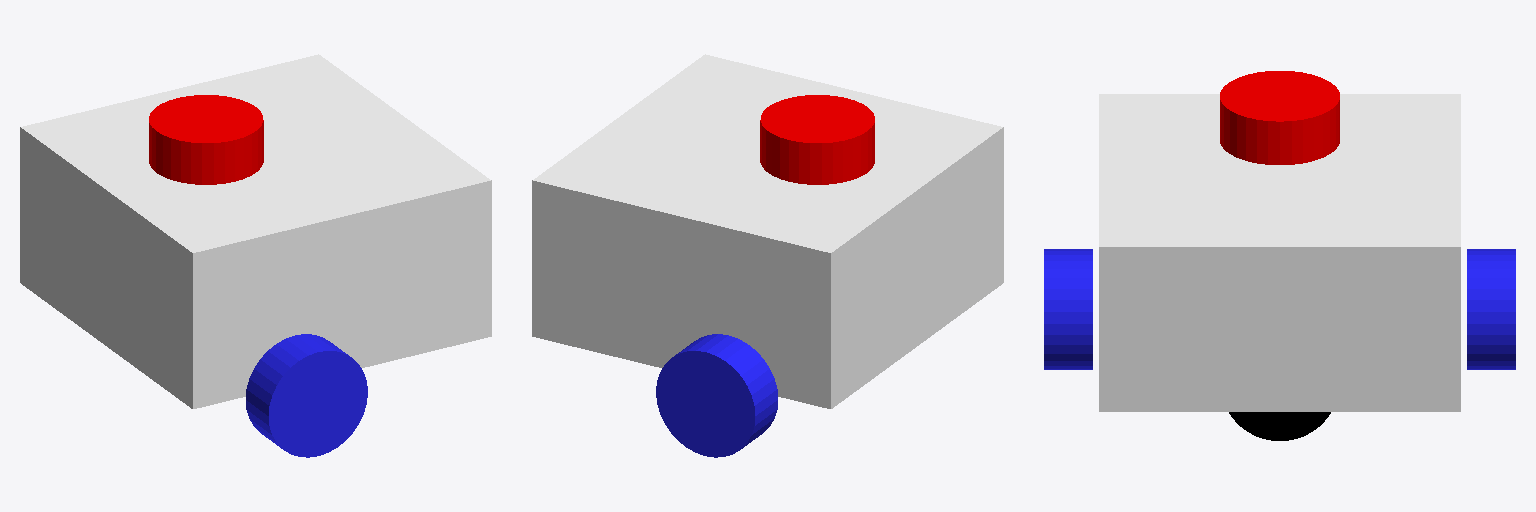
robot.urdf — robot:
<?xml version="1.0" ?>
<!-- =================================================================================== -->
<!-- |    This document was autogenerated by xacro from /home/ros/rmf_ws/src/laris_robot/description/robot.urdf.xacro | -->
<!-- |    EDITING THIS FILE BY HAND IS NOT RECOMMENDED                                 | -->
<!-- =================================================================================== -->
<robot name="robot">
  <!-- Specify some standard inertial calculations https://en.wikipedia.org/wiki/List_of_moments_of_inertia -->
  <!-- These make use of xacro's mathematical functionality -->
  <material name="white">
    <color rgba="1 1 1 1"/>
  </material>
  <material name="orange">
    <color rgba="1 0.3 0.1 1"/>
  </material>
  <material name="blue">
    <color rgba="0.2 0.2 1 1"/>
  </material>
  <material name="black">
    <color rgba="0 0 0 1"/>
  </material>
  <material name="red">
    <color rgba="1 0 0 1"/>
  </material>
  <!-- BASE LINK -->
  <link name="base_link">

    </link>
  <!-- CHASSIS LINK -->
  <joint name="chassis_joint" type="fixed">
    <parent link="base_link"/>
    <child link="chassis"/>
    <origin xyz="-0.1 0 0"/>
  </joint>
  <link name="chassis">
    <visual>
      <origin xyz="0.15 0 0.075"/>
      <geometry>
        <box size="0.3 0.3 0.15"/>
      </geometry>
      <material name="white"/>
    </visual>
    <collision>
      <origin xyz="0.15 0 0.075"/>
      <geometry>
        <box size="0.3 0.3 0.15"/>
      </geometry>
    </collision>
    <inertial>
      <origin rpy="0 0 0" xyz="0.15 0 0.075"/>
      <mass value="0.5"/>
      <inertia ixx="0.004687499999999999" ixy="0.0" ixz="0.0" iyy="0.004687499999999999" iyz="0.0" izz="0.0075"/>
    </inertial>
  </link>
  <gazebo reference="chassis">
    <material>Gazebo/White</material>
  </gazebo>
  <!-- LEFT WHEEL LINK -->
  <joint name="left_wheel_joint" type="continuous">
    <parent link="base_link"/>
    <child link="left_wheel"/>
    <origin rpy="-1.5707963267948966 0 0" xyz="0 0.175 0"/>
    <axis xyz="0 0 1"/>
  </joint>
  <link name="left_wheel">
    <visual>
      <geometry>
        <cylinder length="0.04" radius="0.05"/>
      </geometry>
      <material name="blue"/>
    </visual>
    <collision>
      <geometry>
        <cylinder length="0.04" radius="0.05"/>
      </geometry>
    </collision>
    <inertial>
      <origin rpy="0 0 0" xyz="0 0 0"/>
      <mass value="0.1"/>
      <inertia ixx="7.583333333333335e-05" ixy="0.0" ixz="0.0" iyy="7.583333333333335e-05" iyz="0.0" izz="0.00012500000000000003"/>
    </inertial>
  </link>
  <gazebo reference="left_wheel">
    <material>Gazebo/Blue</material>
  </gazebo>
  <!-- RIGHT WHEEL LINK -->
  <joint name="right_wheel_joint" type="continuous">
    <parent link="base_link"/>
    <child link="right_wheel"/>
    <origin rpy="1.5707963267948966 0 0" xyz="0 -0.175 0"/>
    <axis xyz="0 0 -1"/>
  </joint>
  <link name="right_wheel">
    <visual>
      <geometry>
        <cylinder length="0.04" radius="0.05"/>
      </geometry>
      <material name="blue"/>
    </visual>
    <collision>
      <geometry>
        <cylinder length="0.04" radius="0.05"/>
      </geometry>
    </collision>
    <inertial>
      <origin rpy="0 0 0" xyz="0 0 0"/>
      <mass value="0.1"/>
      <inertia ixx="7.583333333333335e-05" ixy="0.0" ixz="0.0" iyy="7.583333333333335e-05" iyz="0.0" izz="0.00012500000000000003"/>
    </inertial>
  </link>
  <gazebo reference="right_wheel">
    <material>Gazebo/Blue</material>
  </gazebo>
  <!-- CASTER WHEEL LINK -->
  <joint name="caster_wheel_joint" type="fixed">
    <parent link="chassis"/>
    <child link="caster_wheel"/>
    <origin xyz="0.24 0 0"/>
  </joint>
  <link name="caster_wheel">
    <visual>
      <geometry>
        <sphere radius="0.05"/>
      </geometry>
      <material name="black"/>
    </visual>
    <collision>
      <geometry>
        <sphere radius="0.05"/>
      </geometry>
    </collision>
    <inertial>
      <origin rpy="0 0 0" xyz="0 0 0"/>
      <mass value="0.1"/>
      <inertia ixx="0.00010000000000000005" ixy="0.0" ixz="0.0" iyy="0.00010000000000000005" iyz="0.0" izz="0.00010000000000000005"/>
    </inertial>
  </link>
  <gazebo reference="caster_wheel">
    <material>Gazebo/Black</material>
    <mu1 value="0.001"/>
    <mu2 value="0.001"/>
  </gazebo>
  <gazebo>
    <plugin filename="libgazebo_ros_diff_drive.so" name="diff_drive">
      <!-- Wheel Information -->
      <left_joint>left_wheel_joint</left_joint>
      <right_joint>right_wheel_joint</right_joint>
      <wheel_separation>0.35</wheel_separation>
      <wheel_diameter>0.1</wheel_diameter>
      <!-- Limits -->
      <max_wheel_torque>200</max_wheel_torque>
      <max_wheel_acceleration>10.0</max_wheel_acceleration>
      <!-- Output -->
      <odometry_frame>odom</odometry_frame>
      <robot_base_frame>base_link</robot_base_frame>
      <publish_odom>true</publish_odom>
      <publish_odom_tf>true</publish_odom_tf>
      <publish_wheel_tf>true</publish_wheel_tf>
    </plugin>
  </gazebo>
  <joint name="laser_joint" type="fixed">
    <parent link="chassis"/>
    <child link="laser_frame"/>
    <origin rpy="0 0 0" xyz="0.1 0 0.175"/>
  </joint>
  <link name="laser_frame">
    <visual>
      <geometry>
        <cylinder length="0.04" radius="0.05"/>
      </geometry>
      <material name="red"/>
    </visual>
    <collision>
      <geometry>
        <cylinder length="0.04" radius="0.05"/>
      </geometry>
    </collision>
    <inertial>
      <origin rpy="0 0 0" xyz="0 0 0"/>
      <mass value="0.1"/>
      <inertia ixx="7.583333333333335e-05" ixy="0.0" ixz="0.0" iyy="7.583333333333335e-05" iyz="0.0" izz="0.00012500000000000003"/>
    </inertial>
  </link>
  <gazebo reference="laser_frame">
    <material>Gazebo/Red</material>
    <sensor name="laser" type="ray">
      <pose> 0 0 0 0 0 0 </pose>
      <visualize>true</visualize>
      <update_rate>10</update_rate>
      <ray>
        <scan>
          <horizontal>
            <samples>360</samples>
            <min_angle>-3.14</min_angle>
            <max_angle>3.14</max_angle>
          </horizontal>
        </scan>
        <range>
          <min>0.3</min>
          <max>12</max>
        </range>
      </ray>
      <plugin filename="libgazebo_ros_ray_sensor.so" name="laser_controller">
        <ros>
          <argument>~/out:=scan</argument>
        </ros>
        <output_type>sensor_msgs/LaserScan</output_type>
        <frame_name>laser_frame</frame_name>
      </plugin>
    </sensor>
  </gazebo>
</robot>

--- Render facts (derived) ---
3 views of the same robot in one strip: view 1: azimuth 30°, elevation 25°; view 2: azimuth 150°, elevation 25°; view 3: azimuth 270°, elevation 25° (orthographic).
Model robot with 6 links and 5 joints (2 continuous, 3 fixed), rooted at base_link, posed all joints at 0.
Links seen in each view (by area): view 1: chassis, right_wheel, laser_frame; view 2: chassis, left_wheel, laser_frame; view 3: chassis, laser_frame, left_wheel, right_wheel, caster_wheel.
Boxes of the visible links, x1,y1,x2,y2 form: chassis: (20,54,491,408); right_wheel: (246,334,367,457); laser_frame: (149,95,263,184); chassis: (532,54,1003,408); left_wheel: (656,334,777,457); laser_frame: (760,95,874,184); chassis: (1099,94,1460,411); laser_frame: (1220,71,1339,164); left_wheel: (1467,249,1515,369); right_wheel: (1044,249,1092,369); caster_wheel: (1229,412,1330,440).
Size in the robot's own frame: 0.3 by 0.39 by 0.245 metres.
Geometry: primitives only (box / cylinder / sphere), no mesh files.
